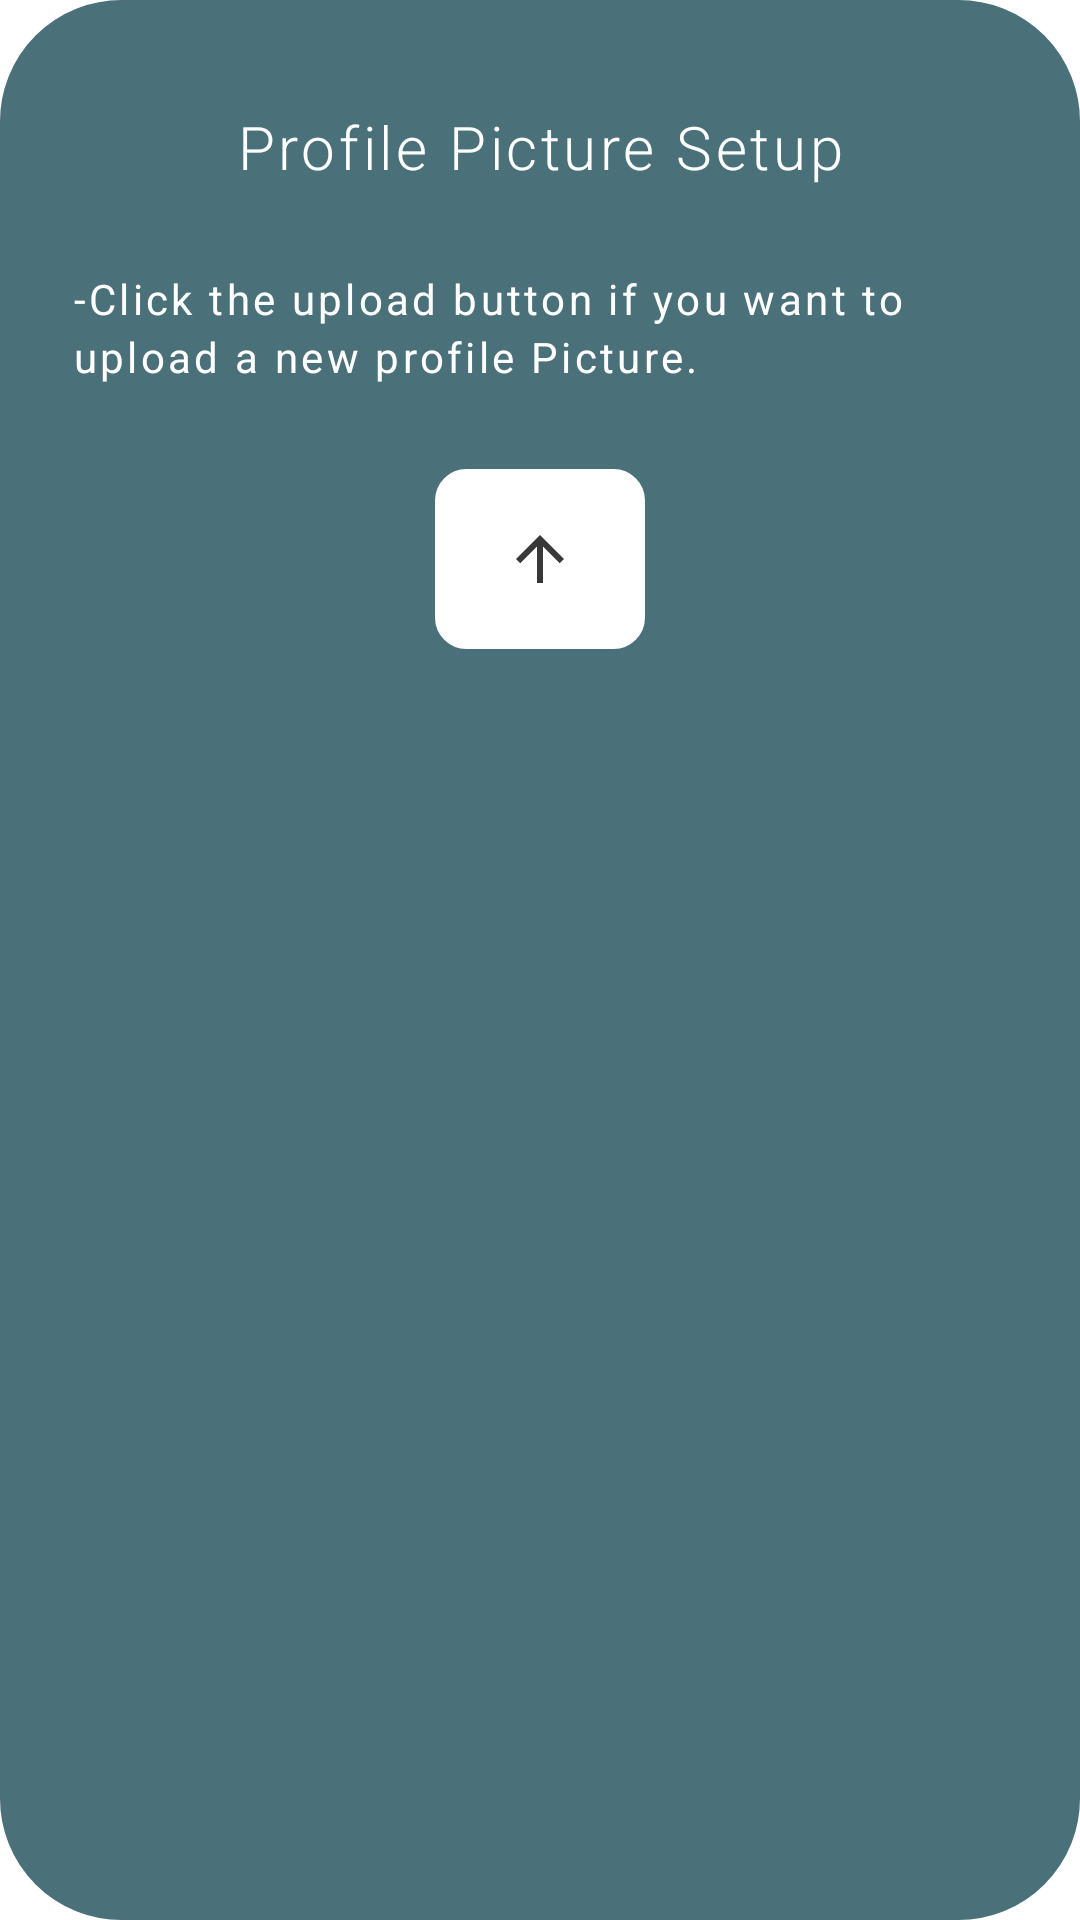

Icon click points for this 1080px×1920px phone screenshot, format (x=x, y=y):
arrow upward: (x=540, y=559)
